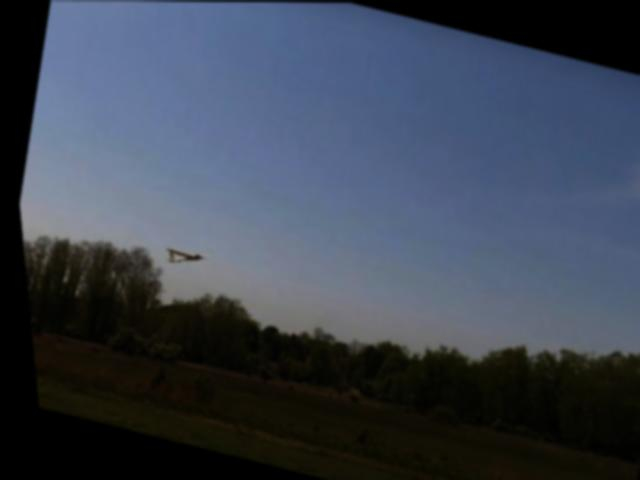iha: (151, 231, 213, 277)
